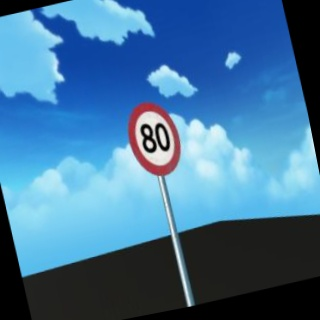speed80: (117, 91, 189, 186)
